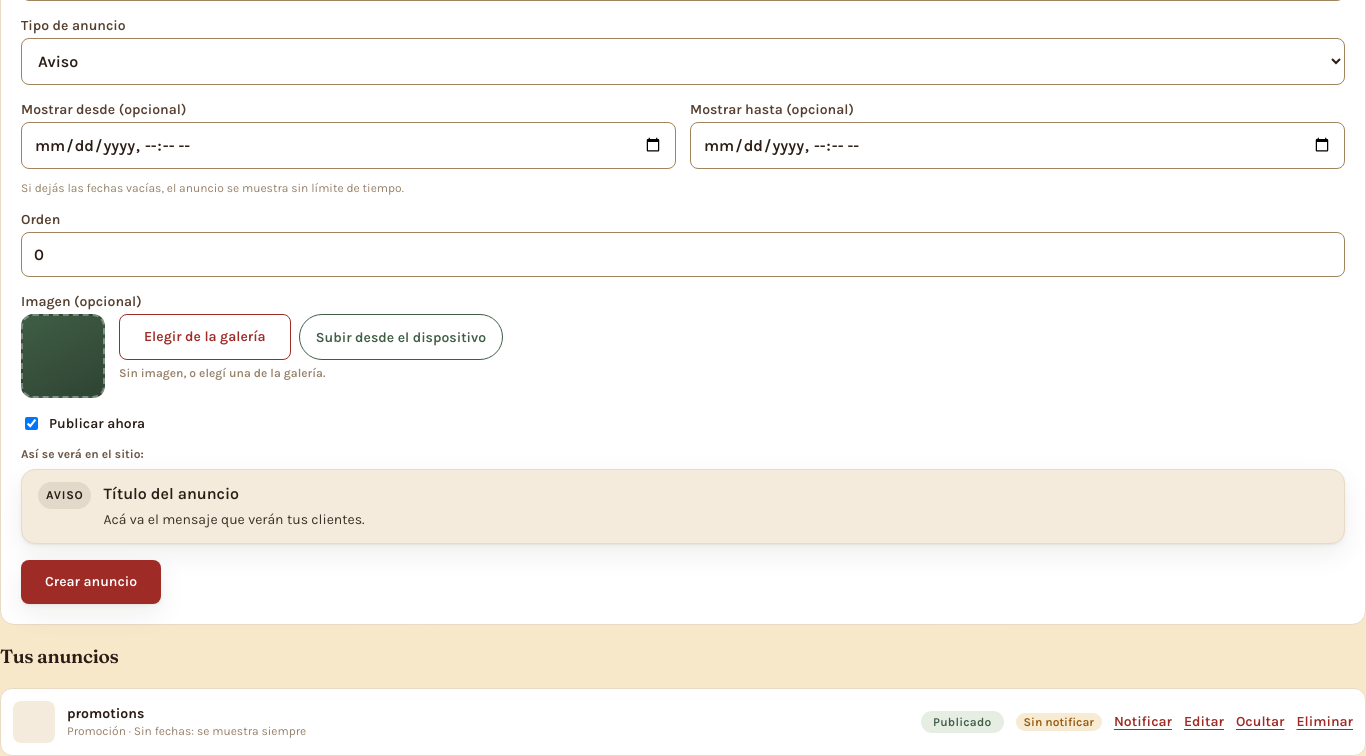
Test: AnnouncementManager › explica por qué no se puede notificar un aviso no visible
(page scrolled)
Expected: the text "promotions" is shown, [67,705,144,722]
Click the button "Notificar". click: [1143, 722]
box: [1114,713,1172,730]
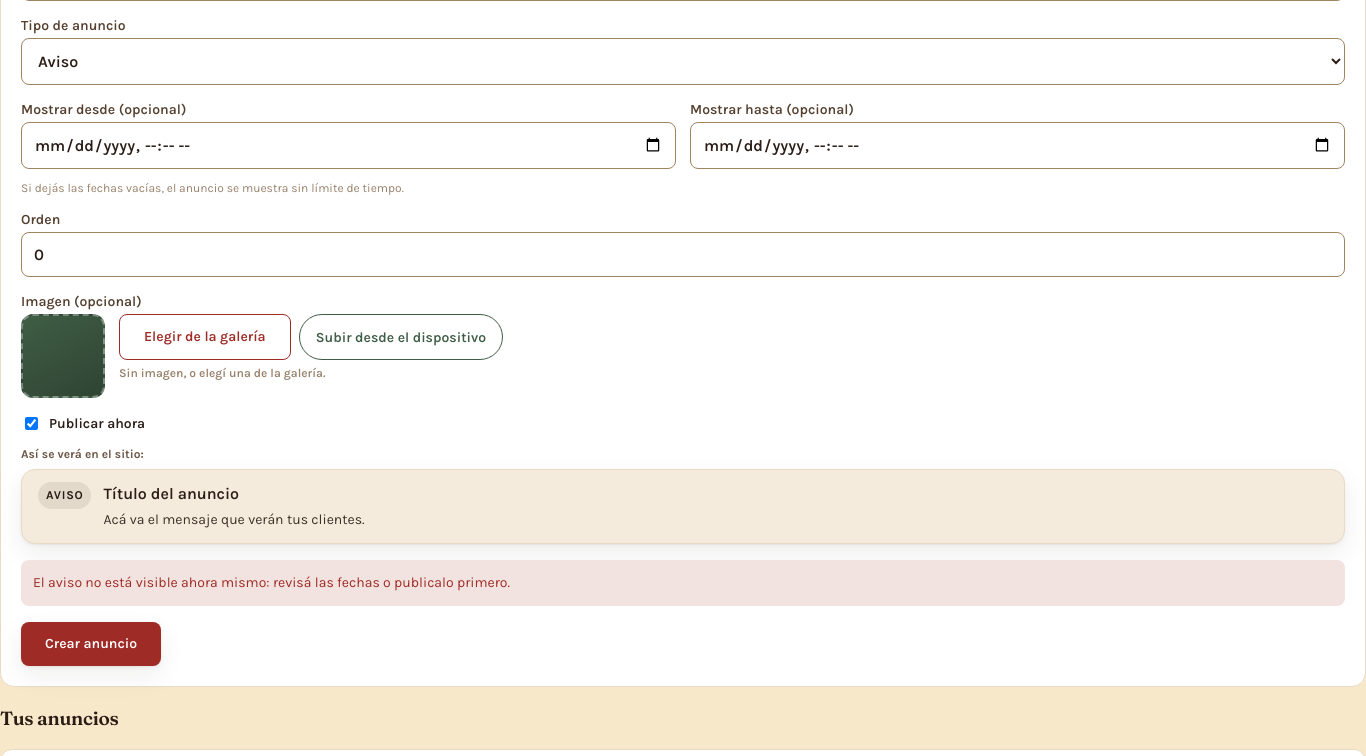
Now the text "no está visible ahora mismo" is shown, box [33,574,510,591]
